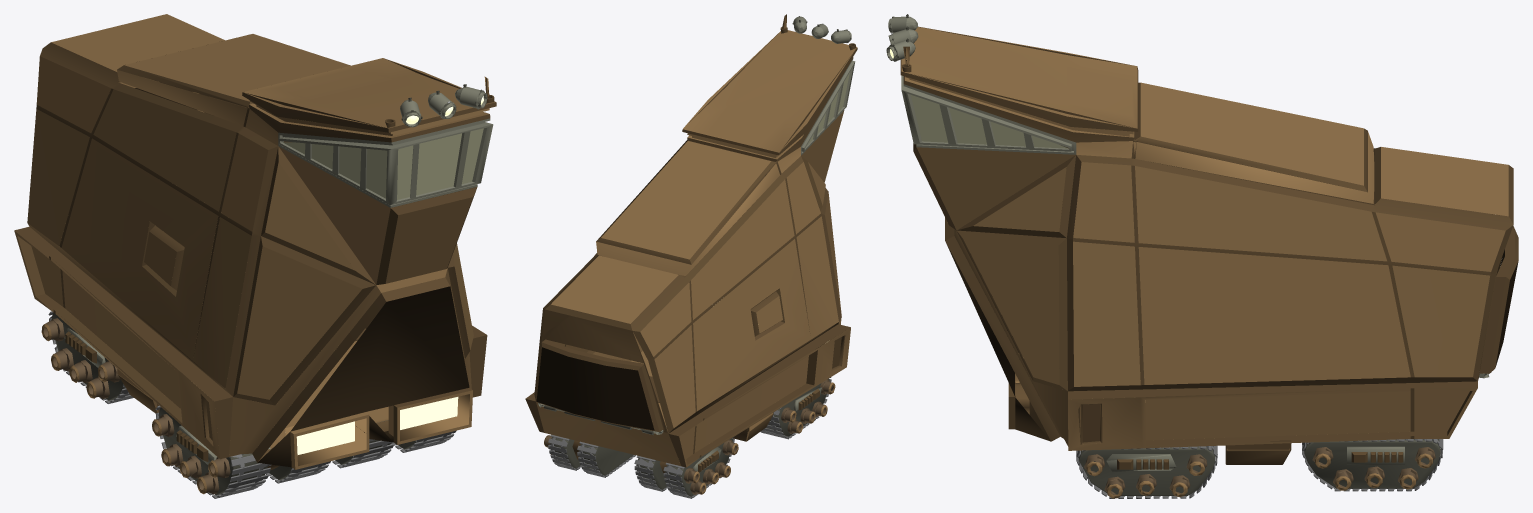
File: sandcrawler.glb
The picture shows the model from 3 angles, left to right: view 1: azimuth 30°, elevation 25°; view 2: azimuth 150°, elevation 25°; view 3: azimuth 270°, elevation 25°; orthographic projection. The views are drawn at different scales.
Visible parts, largest first — view 1: polySurface3_Hull_Main_0, polySurface3_Hull_dark_0, polySurface3_lambert7_0, polySurface4_Metal_frame_0, polySurface4_Glass_0, polySurface3_Hull_Light_0, pCube28_Trucks1_0, pCylinder22_Pivots_0, Truck_Chassis_Metal_fittings_0, polySurface3_Lights_0; view 2: polySurface3_Hull_Main_0, polySurface3_Hull_dark_0, polySurface3_lambert7_0, Truck_Chassis_Metal_fittings_0, pCube28_Trucks1_0, polySurface3_Hull_Light_0, polySurface4_Metal_frame_0, pCylinder22_Pivots_0, polySurface4_Glass_0; view 3: polySurface3_Hull_Main_0, polySurface3_Hull_dark_0, Truck_Chassis_Metal_fittings_0, polySurface4_Metal_frame_0, polySurface3_Hull_Light_0, polySurface4_Glass_0, polySurface3_lambert7_0, pCylinder22_Pivots_0, pCube28_Trucks1_0.
Boxes of the visible parts, bbox=[...] form: polySurface3_Hull_Main_0: bbox=[14, 14, 495, 494]; polySurface3_Hull_dark_0: bbox=[14, 42, 496, 469]; polySurface3_lambert7_0: bbox=[135, 82, 469, 467]; polySurface4_Metal_frame_0: bbox=[64, 87, 493, 464]; polySurface4_Glass_0: bbox=[283, 128, 483, 199]; polySurface3_Hull_Light_0: bbox=[117, 70, 469, 466]; pCube28_Trucks1_0: bbox=[48, 311, 456, 498]; pCylinder22_Pivots_0: bbox=[43, 318, 230, 494]; Truck_Chassis_Metal_fittings_0: bbox=[51, 84, 481, 495]; polySurface3_Lights_0: bbox=[296, 95, 483, 454]; polySurface3_Hull_Main_0: bbox=[536, 14, 856, 494]; polySurface3_Hull_dark_0: bbox=[525, 27, 857, 478]; polySurface3_lambert7_0: bbox=[536, 346, 820, 430]; Truck_Chassis_Metal_fittings_0: bbox=[544, 16, 850, 496]; pCube28_Trucks1_0: bbox=[548, 377, 831, 498]; polySurface3_Hull_Light_0: bbox=[596, 147, 800, 431]; polySurface4_Metal_frame_0: bbox=[538, 16, 855, 471]; pCylinder22_Pivots_0: bbox=[545, 379, 833, 494]; polySurface4_Glass_0: bbox=[807, 72, 849, 145]; polySurface3_Hull_Main_0: bbox=[901, 27, 1508, 498]; polySurface3_Hull_dark_0: bbox=[900, 26, 1518, 469]; Truck_Chassis_Metal_fittings_0: bbox=[890, 14, 1491, 495]; polySurface4_Metal_frame_0: bbox=[886, 16, 1489, 472]; polySurface3_Hull_Light_0: bbox=[1015, 132, 1374, 414]; polySurface4_Glass_0: bbox=[911, 95, 1068, 148]; polySurface3_lambert7_0: bbox=[946, 243, 1518, 441]; pCylinder22_Pivots_0: bbox=[1084, 447, 1435, 495]; pCube28_Trucks1_0: bbox=[1076, 439, 1443, 498].
Bounding box in the file's own units: 16.34 × 26.55 × 36.
